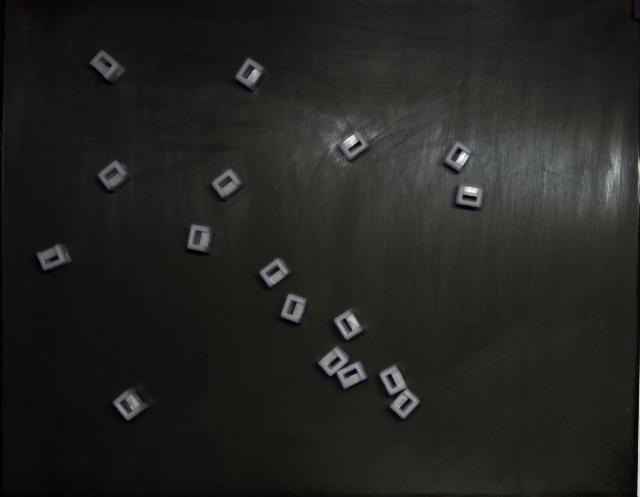fourth_side: (90, 50, 125, 84), (112, 389, 149, 421), (98, 160, 134, 191), (211, 169, 245, 200), (235, 58, 266, 91), (36, 244, 71, 271), (334, 309, 364, 340), (318, 346, 349, 376), (259, 259, 291, 288), (336, 361, 368, 390), (390, 389, 420, 419), (379, 364, 408, 395), (339, 131, 369, 160), (280, 294, 308, 324), (445, 141, 472, 172), (188, 225, 214, 254), (456, 185, 484, 209)
